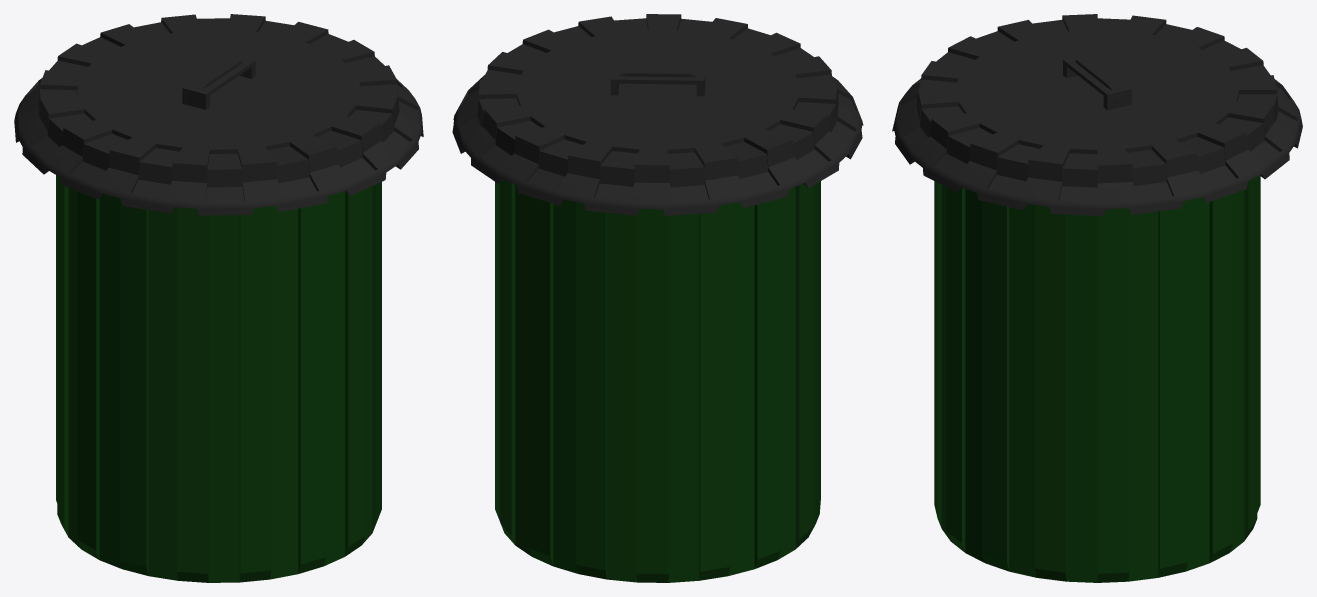
The model's file is Lixeira.fbx.
3 views of the same model, side by side, from view 1: azimuth 30°, elevation 25°; view 2: azimuth 150°, elevation 25°; view 3: azimuth 270°, elevation 25° (orthographic).
Parts seen in each view (by area): view 1: Cilindro, Cilindro.001; view 2: Cilindro, Cilindro.001; view 3: Cilindro, Cilindro.001.
Part boxes in pixels (x1=…): Cilindro: x1=56, y1=175, x2=381, y2=582; Cilindro.001: x1=14, y1=14, x2=423, y2=215; Cilindro: x1=495, y1=180, x2=820, y2=582; Cilindro.001: x1=452, y1=14, x2=863, y2=215; Cilindro: x1=934, y1=175, x2=1260, y2=582; Cilindro.001: x1=892, y1=14, x2=1302, y2=215.
Size of the model in its own units: 259 by 309 by 259.
